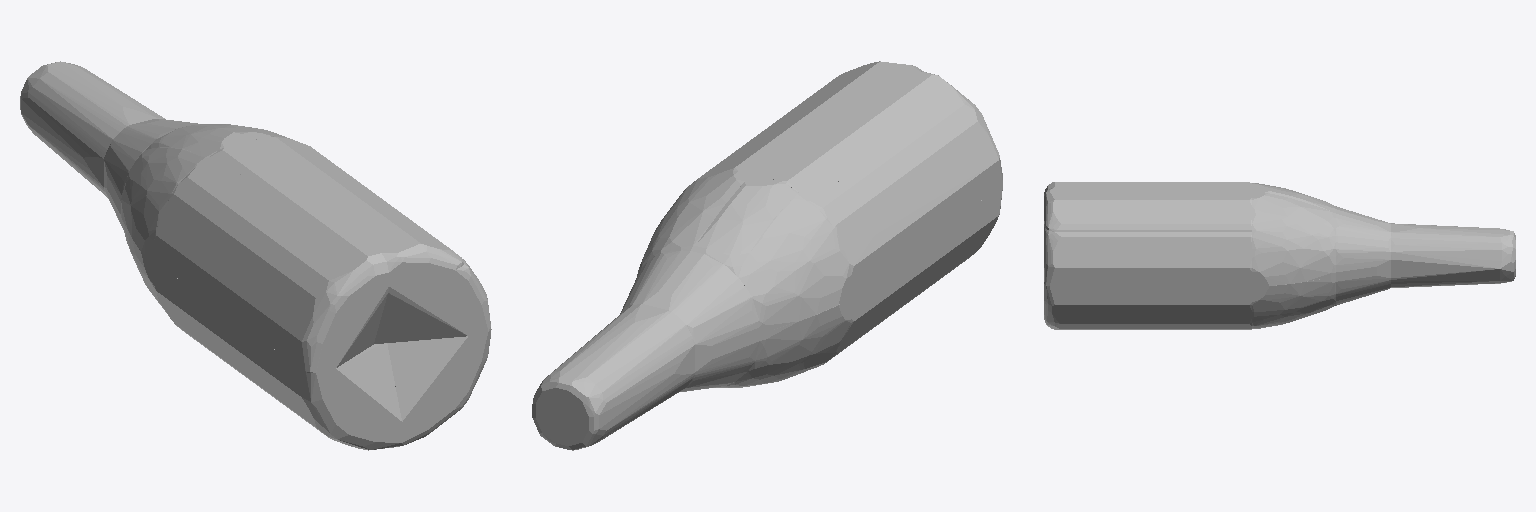
URDF robot description (root):
<?xml version="1.0"?>
<robot name="root">
  <link name="base_link">
    <visual>
      <origin xyz="0 0 0" rpy="0 0 0" />
      <geometry>
        <mesh filename="../meshes/unidex_core_bottle-d30623112e58b893eee7d6dab02eb061_010.obj" scale="1.0000E+00 1.0000E+00 1.0000E+00" />
      </geometry>
      <material name="">
        <color rgba="7.50E-01 7.50E-01 7.50E-01 1" />
      </material>
    </visual>
    <collision>
      <origin xyz="0 0 0" rpy="0 0 0" />
      <geometry>
        <mesh filename="../meshes/unidex_core_bottle-d30623112e58b893eee7d6dab02eb061_010.obj" scale="1.0000E+00 1.0000E+00 1.0000E+00" />
      </geometry>
    </collision>
  </link>
</robot>

--- Facts derived from the render (not from the file) ---
Views: 3 orthographic renders of the robot side by side, from view 1: azimuth 30°, elevation 25°; view 2: azimuth 150°, elevation 25°; view 3: azimuth 270°, elevation 25°.
Robot: root — 1 links, 0 joints (none); root link base_link; default pose: every joint at zero.
Visible links, largest first — view 1: base_link; view 2: base_link; view 3: base_link.
Link boxes in pixels (<box>): base_link: <box>20,61,491,450</box>; base_link: <box>532,61,1002,450</box>; base_link: <box>1044,182,1515,329</box>.
Bounding box of the posed robot: 0.0577 × 0.1895 × 0.0577 m (x, y, z).
1 mesh visuals loaded from 1 distinct referenced files (1 OBJ).
